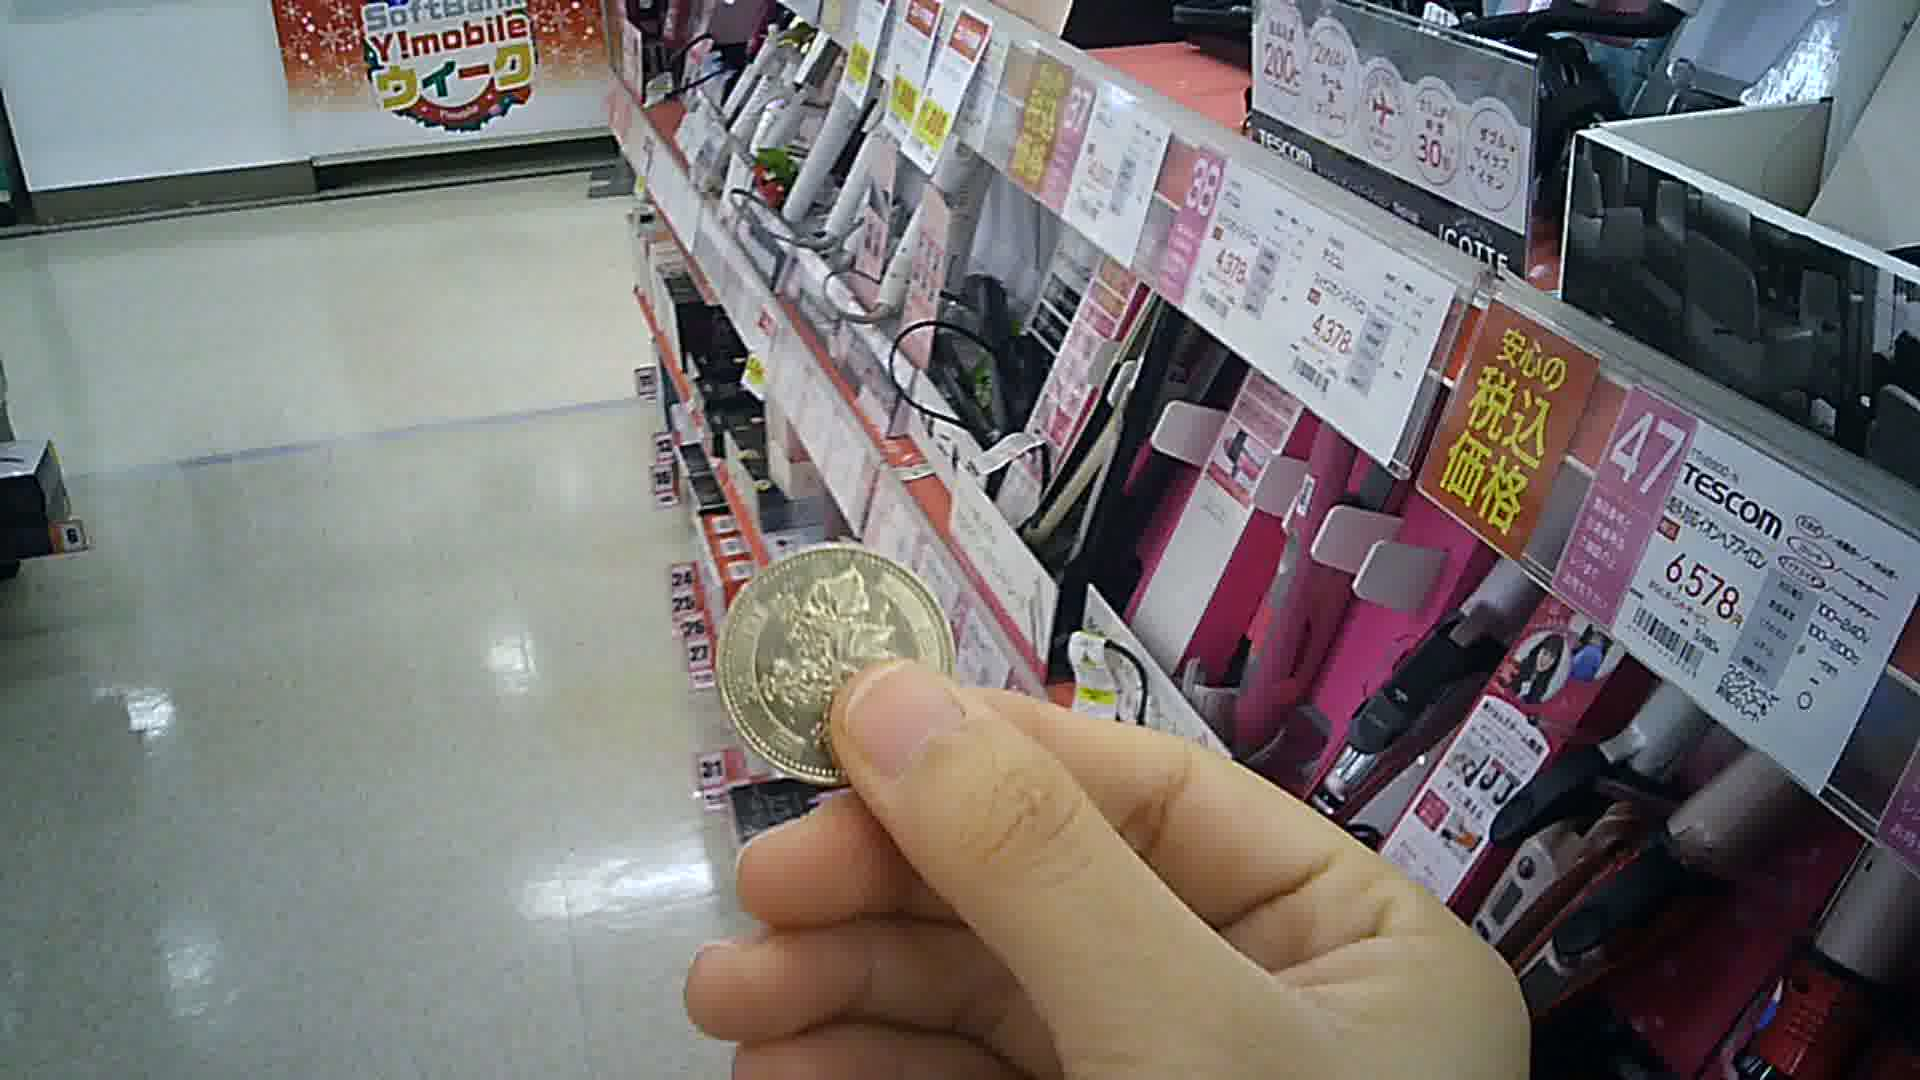500 Yen: (721, 545, 965, 781)
